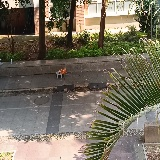fire: (60, 68, 67, 74)
